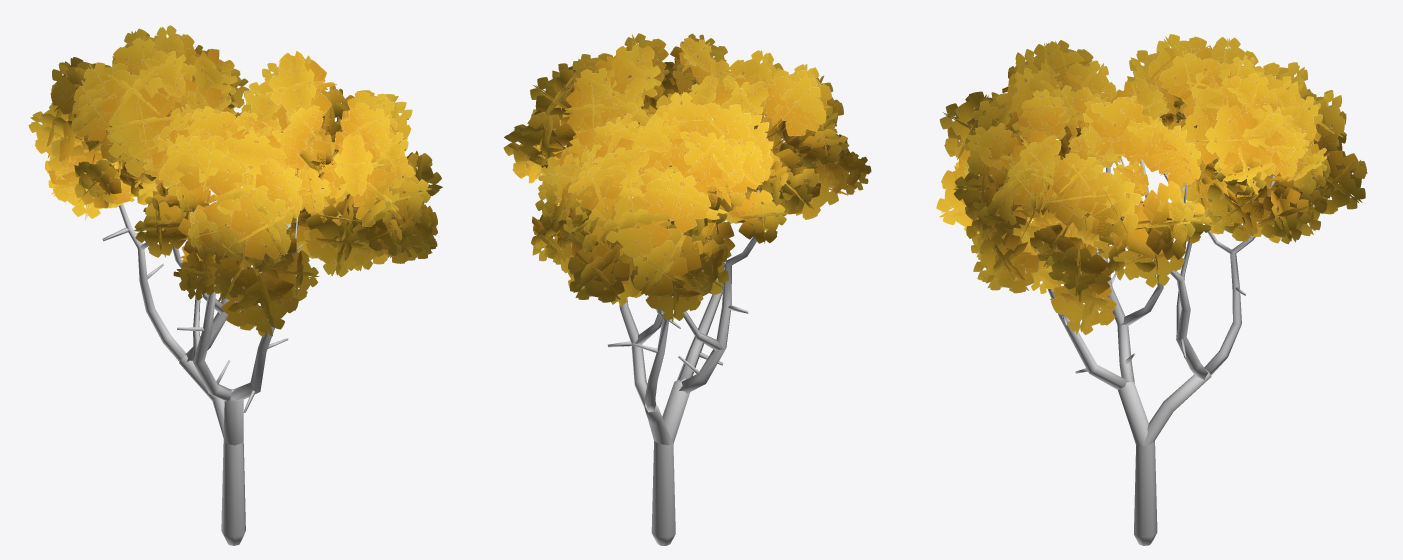
File: TSP_Tree_04B.fbx
3 renders of one model, left to right at view 1: azimuth 30°, elevation 25°; view 2: azimuth 150°, elevation 25°; view 3: azimuth 270°, elevation 25°, orthographic. The views are drawn at different scales.
Visible parts, largest first — view 1: TSP_Tree_04B; view 2: TSP_Tree_04B; view 3: TSP_Tree_04B.
Part boxes in pixels (x1,y1,x2,y2): TSP_Tree_04B: (28, 25, 442, 545); TSP_Tree_04B: (503, 33, 871, 545); TSP_Tree_04B: (936, 34, 1367, 545).
Size of the model in its own units: 7.74 by 11.19 by 9.76.
